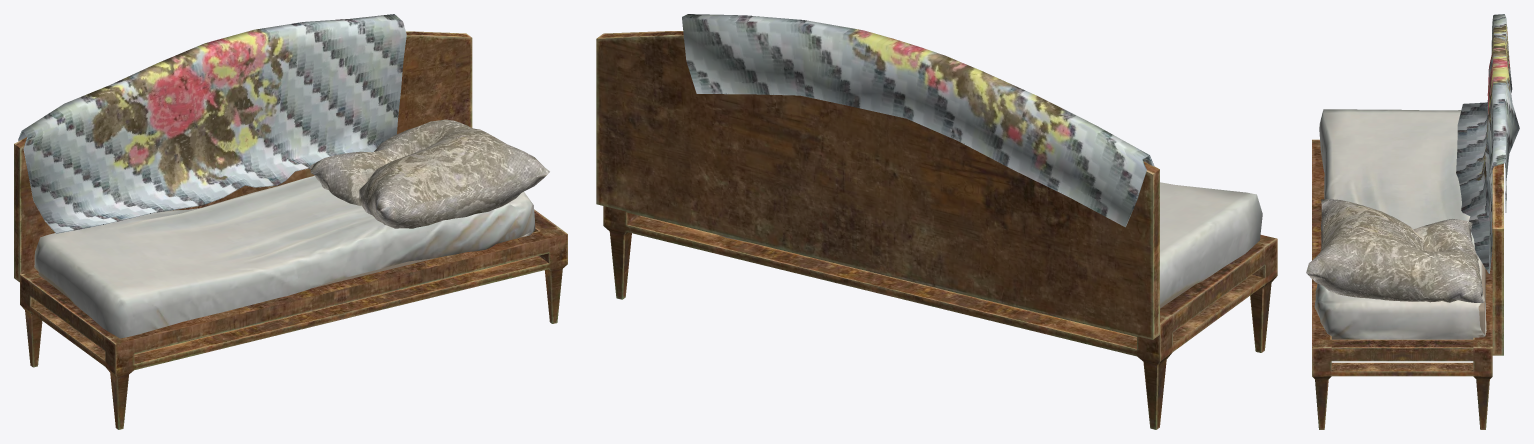
Rendered from vintage_day_bed.gltf.
3 views of the same model, side by side, from view 1: azimuth 30°, elevation 25°; view 2: azimuth 150°, elevation 25°; view 3: azimuth 270°, elevation 25° (orthographic). The views are drawn at different scales.
Parts seen in each view (by area): view 1: lod0; view 2: lod0; view 3: lod0.
Boxes of the visible parts, box(x1,y1,x2,y2) form: lod0: box(14, 14, 567, 429); lod0: box(596, 14, 1277, 429); lod0: box(1306, 14, 1519, 429).
Size of the model in its own units: 1.97 by 1.13 by 0.8547.
Materials: 1 (1 with a texture image).
